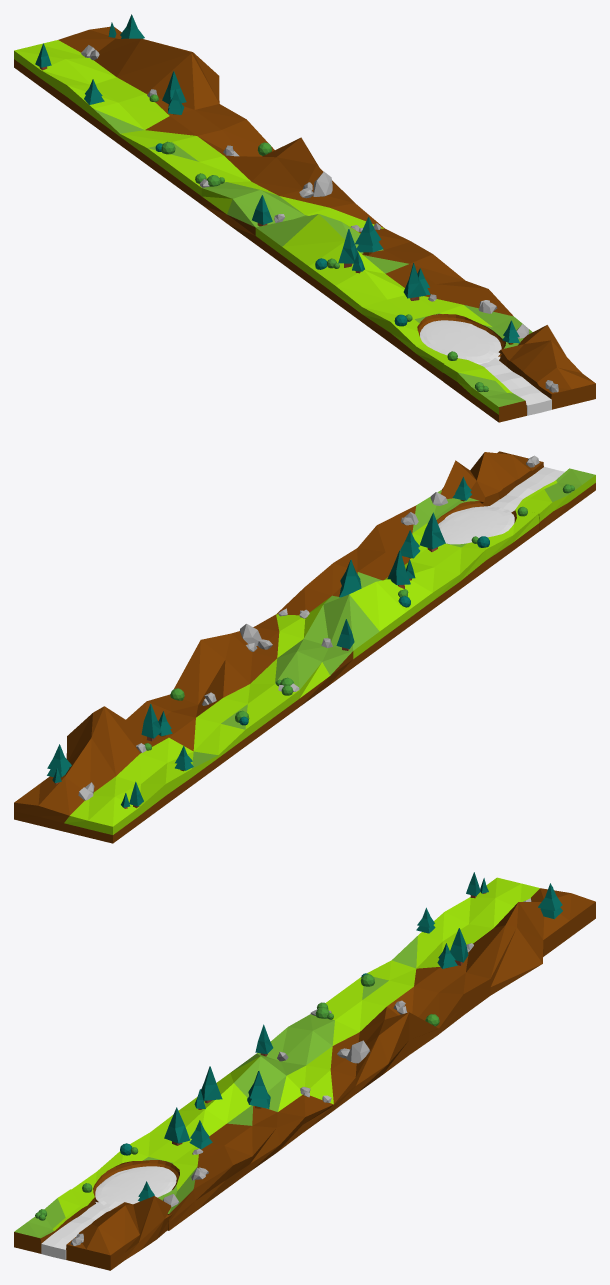
Rendered from hills.fbx.
3 renders of one model, top to bottom at view 1: azimuth 30°, elevation 25°; view 2: azimuth 150°, elevation 25°; view 3: azimuth 330°, elevation 25°, orthographic.
Parts seen in each view (by area): view 1: Cube.001, Cube, Sphere.001, Plane, Cube.010; view 2: Cube.001, Cube, Sphere.001, Plane, Cube.014; view 3: Cube.001, Cube, Sphere.001, Plane, Cube.010, Cube.014.
Boxes of the visible parts, x1=… form: Cube.001: x1=14, y1=26, x2=532, y2=380; Cube: x1=443, y1=325, x2=595, y2=422; Sphere.001: x1=420, y1=320, x2=501, y2=364; Plane: x1=479, y1=358, x2=551, y2=415; Cube.010: x1=355, y1=217, x2=383, y2=255; Cube.001: x1=14, y1=490, x2=539, y2=843; Cube: x1=441, y1=451, x2=595, y2=530; Sphere.001: x1=438, y1=506, x2=514, y2=544; Plane: x1=488, y1=466, x2=564, y2=511; Cube.014: x1=420, y1=512, x2=445, y2=551; Cube.001: x1=71, y1=877, x2=595, y2=1230; Cube: x1=14, y1=1189, x2=172, y2=1270; Sphere.001: x1=95, y1=1166, x2=176, y2=1207; Plane: x1=41, y1=1203, x2=113, y2=1259; Cube.010: x1=247, y1=1071, x2=270, y2=1108; Cube.014: x1=164, y1=1107, x2=190, y2=1145.
Bounding box in the file's own units: 796 × 361 × 5202.
